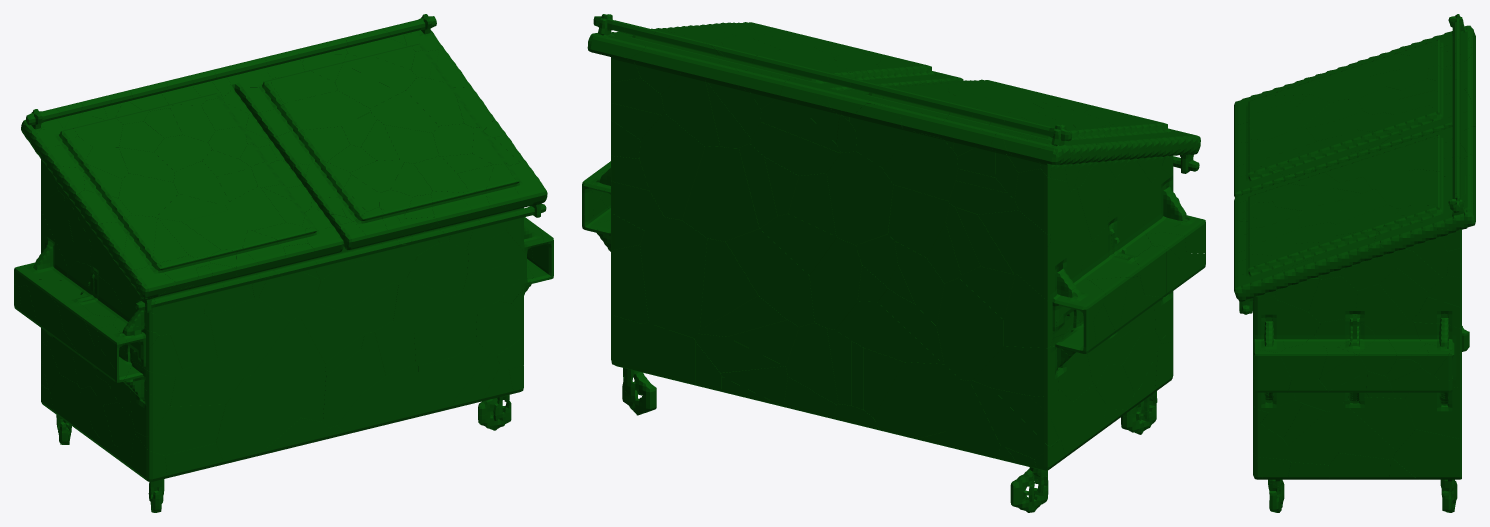
The model's file is Trash_Big.fbx.
3 renders of one model, left to right at view 1: azimuth 30°, elevation 25°; view 2: azimuth 150°, elevation 25°; view 3: azimuth 270°, elevation 25°, orthographic. The views are drawn at different scales.
Visible parts, largest first — view 1: TrashBig_cell.244, TrashBig_cell.241, TrashBig_cell.129, TrashBig_cell.190, TrashBig_cell.305, TrashBig_cell.135, TrashBig_cell.069, TrashBig_cell.137, TrashBig_cell.016, TrashBig_cell.033, TrashBig_cell.168, TrashBig_cell.079 (+112 smaller); view 2: TrashBig_cell.250, TrashBig_cell.095, TrashBig_cell.311, TrashBig_cell.232, TrashBig_cell.017, TrashBig_cell.120, TrashBig_cell.298, TrashBig_cell.090, TrashBig_cell.239, TrashBig_cell.075, TrashBig_cell.026, TrashBig_cell.157 (+91 smaller); view 3: TrashBig_cell.067, TrashBig_cell.184, TrashBig_cell.236, TrashBig_cell.212, TrashBig_cell.109, TrashBig_cell.152, TrashBig_cell.149, TrashBig_cell.260, TrashBig_cell.339, TrashBig_cell.340, TrashBig_cell.316, TrashBig_cell.080 (+111 smaller).
Boxes of the visible parts, x1,y1,x2,y2 form: TrashBig_cell.244: [252, 316, 325, 421]; TrashBig_cell.241: [216, 375, 300, 464]; TrashBig_cell.129: [209, 297, 289, 378]; TrashBig_cell.190: [337, 364, 417, 434]; TrashBig_cell.305: [414, 293, 477, 365]; TrashBig_cell.135: [135, 404, 225, 455]; TrashBig_cell.069: [170, 358, 242, 406]; TrashBig_cell.137: [314, 260, 392, 311]; TrashBig_cell.016: [407, 241, 468, 296]; TrashBig_cell.033: [283, 90, 370, 129]; TrashBig_cell.168: [300, 301, 363, 362]; TrashBig_cell.079: [258, 265, 320, 321]; TrashBig_cell.250: [640, 217, 707, 337]; TrashBig_cell.095: [874, 362, 960, 438]; TrashBig_cell.311: [826, 151, 893, 245]; TrashBig_cell.232: [936, 278, 1003, 380]; TrashBig_cell.017: [726, 228, 814, 326]; TrashBig_cell.120: [639, 113, 704, 220]; TrashBig_cell.298: [882, 132, 957, 200]; TrashBig_cell.090: [809, 237, 861, 329]; TrashBig_cell.239: [682, 146, 729, 241]; TrashBig_cell.075: [972, 346, 1058, 396]; TrashBig_cell.026: [836, 301, 942, 363]; TrashBig_cell.157: [700, 238, 758, 329]; TrashBig_cell.067: [1393, 429, 1461, 491]; TrashBig_cell.184: [1404, 385, 1461, 438]; TrashBig_cell.236: [1343, 397, 1415, 450]; TrashBig_cell.212: [1331, 402, 1396, 459]; TrashBig_cell.109: [1288, 411, 1338, 464]; TrashBig_cell.152: [1355, 284, 1408, 332]; TrashBig_cell.149: [1341, 229, 1396, 290]; TrashBig_cell.260: [1380, 215, 1436, 253]; TrashBig_cell.339: [1253, 296, 1284, 352]; TrashBig_cell.340: [1329, 452, 1390, 479]; TrashBig_cell.316: [1234, 260, 1276, 308]; TrashBig_cell.080: [1279, 343, 1327, 379].
Size of the model in its own units: 12.01 by 8.93 by 6.
